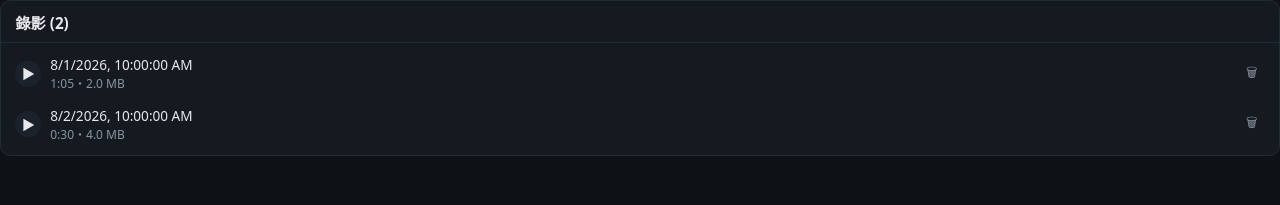
Scenario: RecordingsPanel › reports a failed deletion instead of pretending it worked
Click the button named "刪除".
click(1252, 74)  # box [1239,60,1265,88]
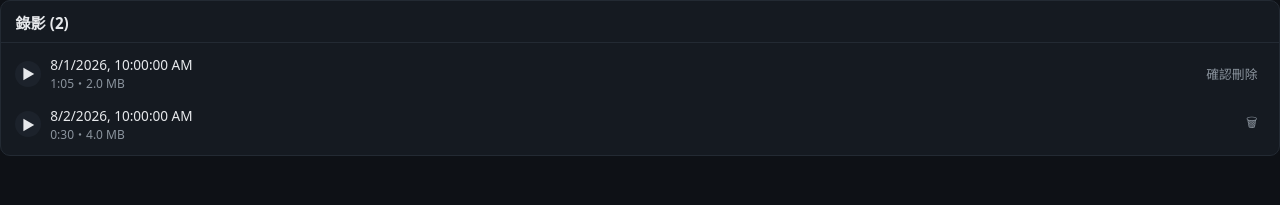
Click the button "確認刪除".
click(1232, 74)  # box [1199,61,1265,86]
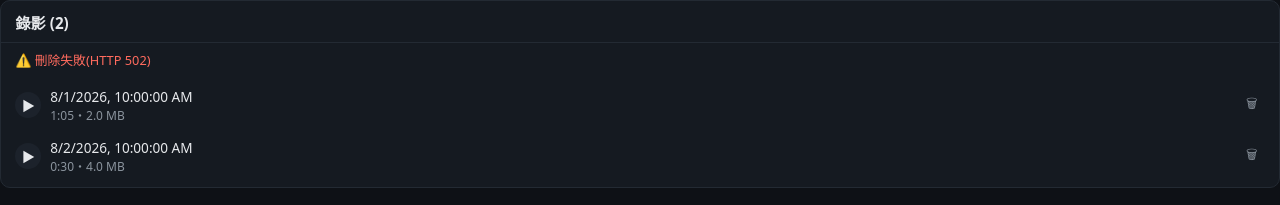
Expected: the text "⚠️ 刪除失敗(HTTP 502)" is shown, [15,51,151,69]
